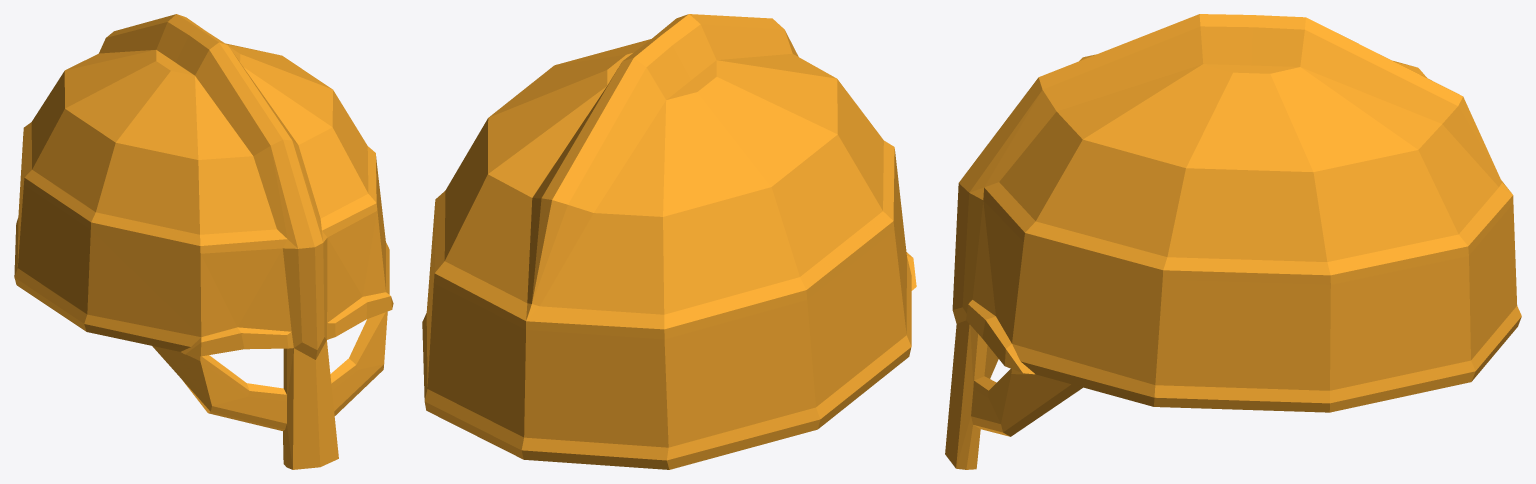
File: SM_Helmet_Viking.fbx
The picture shows the model from 3 angles, left to right: view 1: azimuth 30°, elevation 25°; view 2: azimuth 150°, elevation 25°; view 3: azimuth 270°, elevation 25°; orthographic projection. The views are drawn at different scales.
Parts seen in each view (by area): view 1: helmet-viking; view 2: helmet-viking; view 3: helmet-viking.
Boxes of the visible parts, x1=… form: helmet-viking: x1=14, y1=14, x2=393, y2=469; helmet-viking: x1=422, y1=14, x2=916, y2=469; helmet-viking: x1=945, y1=14, x2=1521, y2=469.
Bounding box in the file's own units: 0.2018 × 0.2216 × 0.2629.
